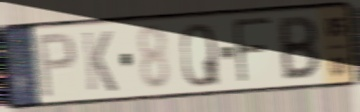8: (135, 22, 171, 94)
B: (277, 14, 321, 83)
F: (230, 15, 273, 87)
K: (80, 29, 119, 94)
P: (35, 30, 78, 101)
Q: (179, 20, 222, 90)
